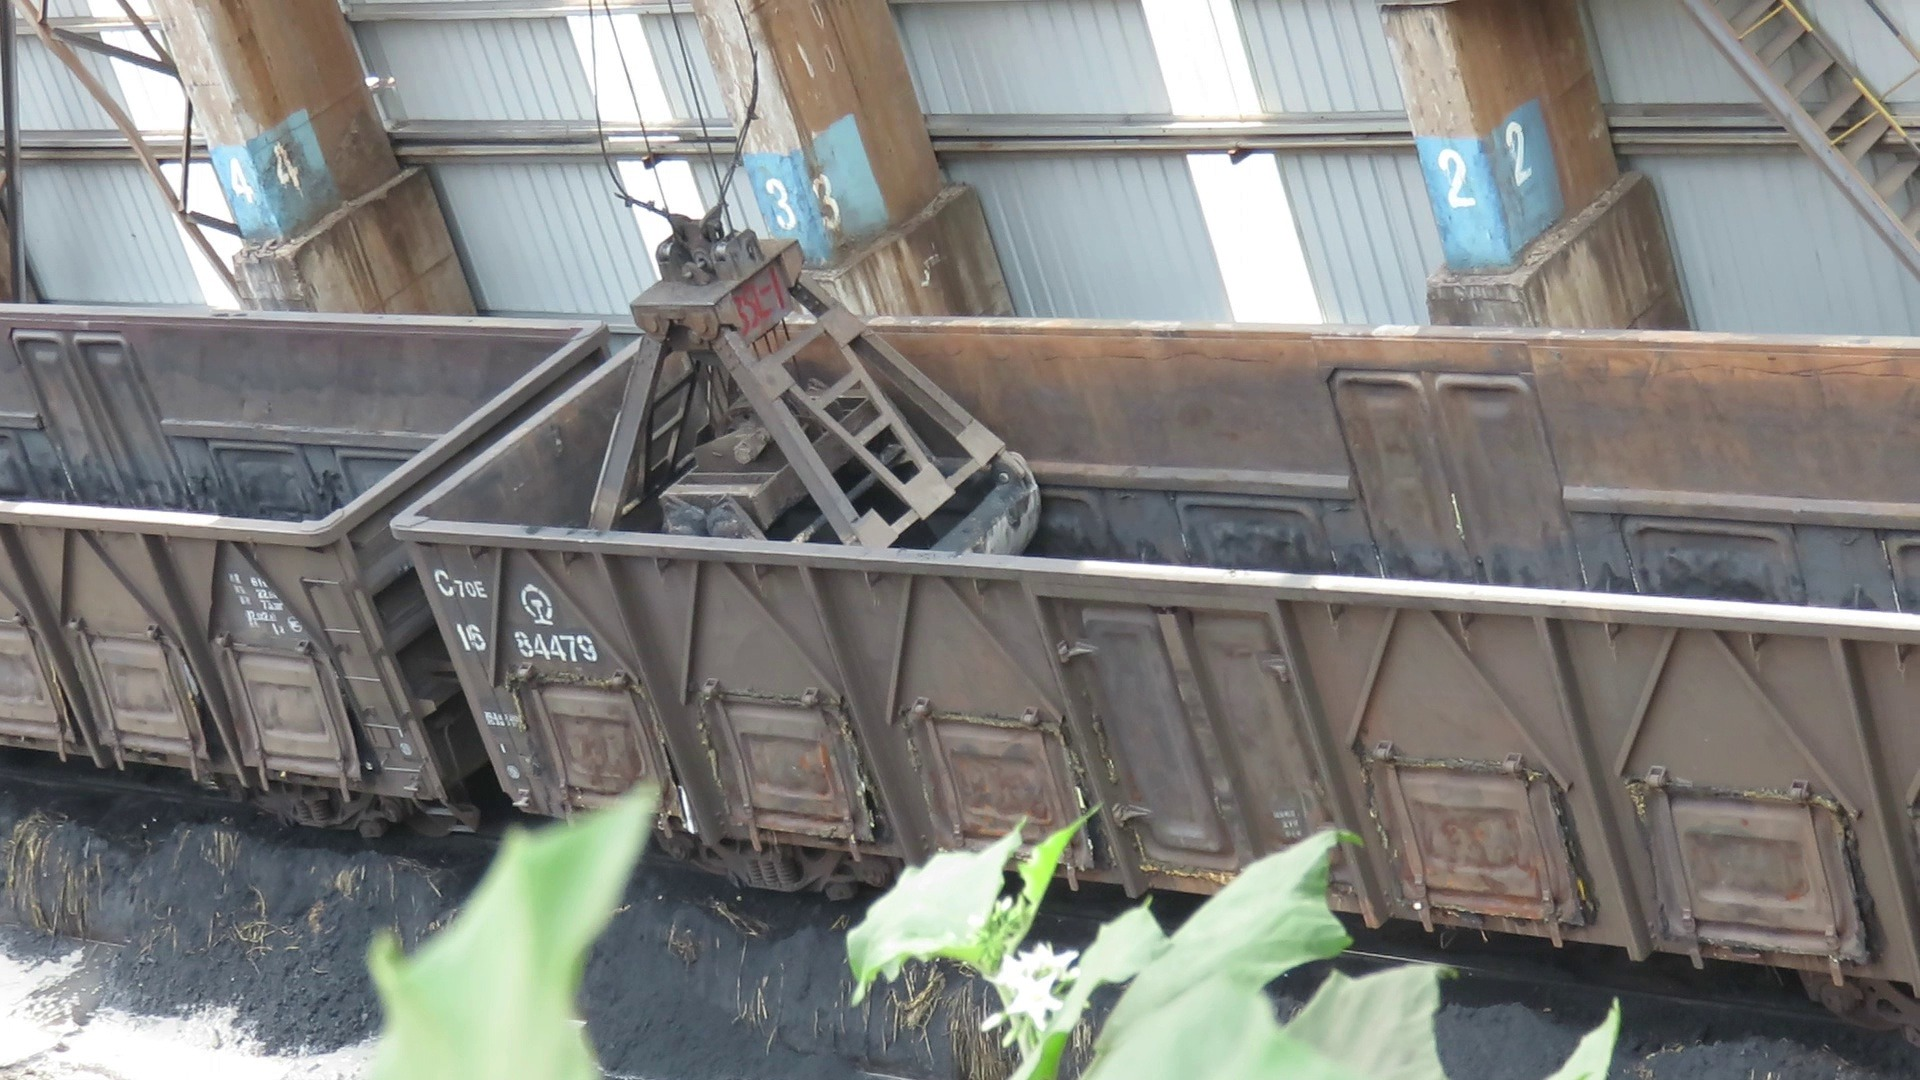grab: (578, 208, 1046, 566)
